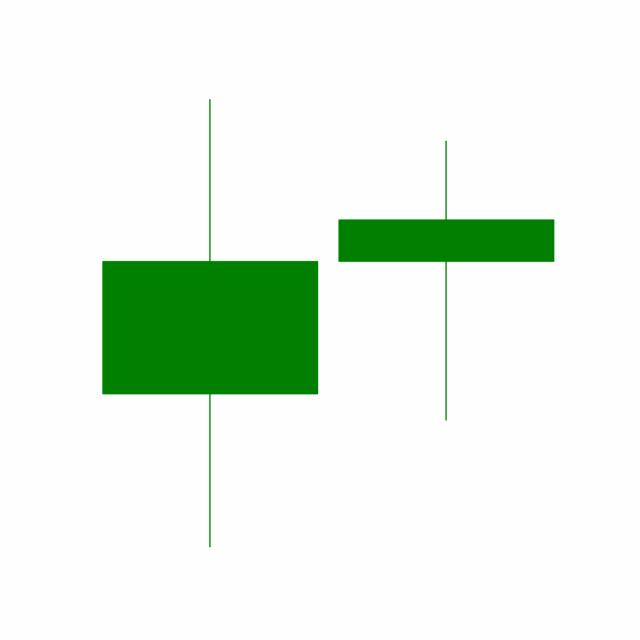Spinning Top: (327, 136, 565, 424)
